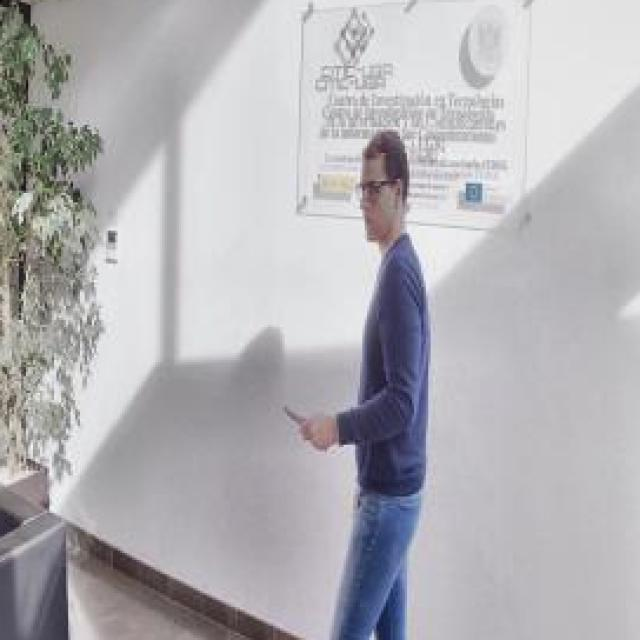knife: (280, 400, 328, 456)
